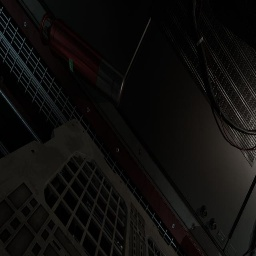NitrogenTank ,: (40, 12, 126, 108)
